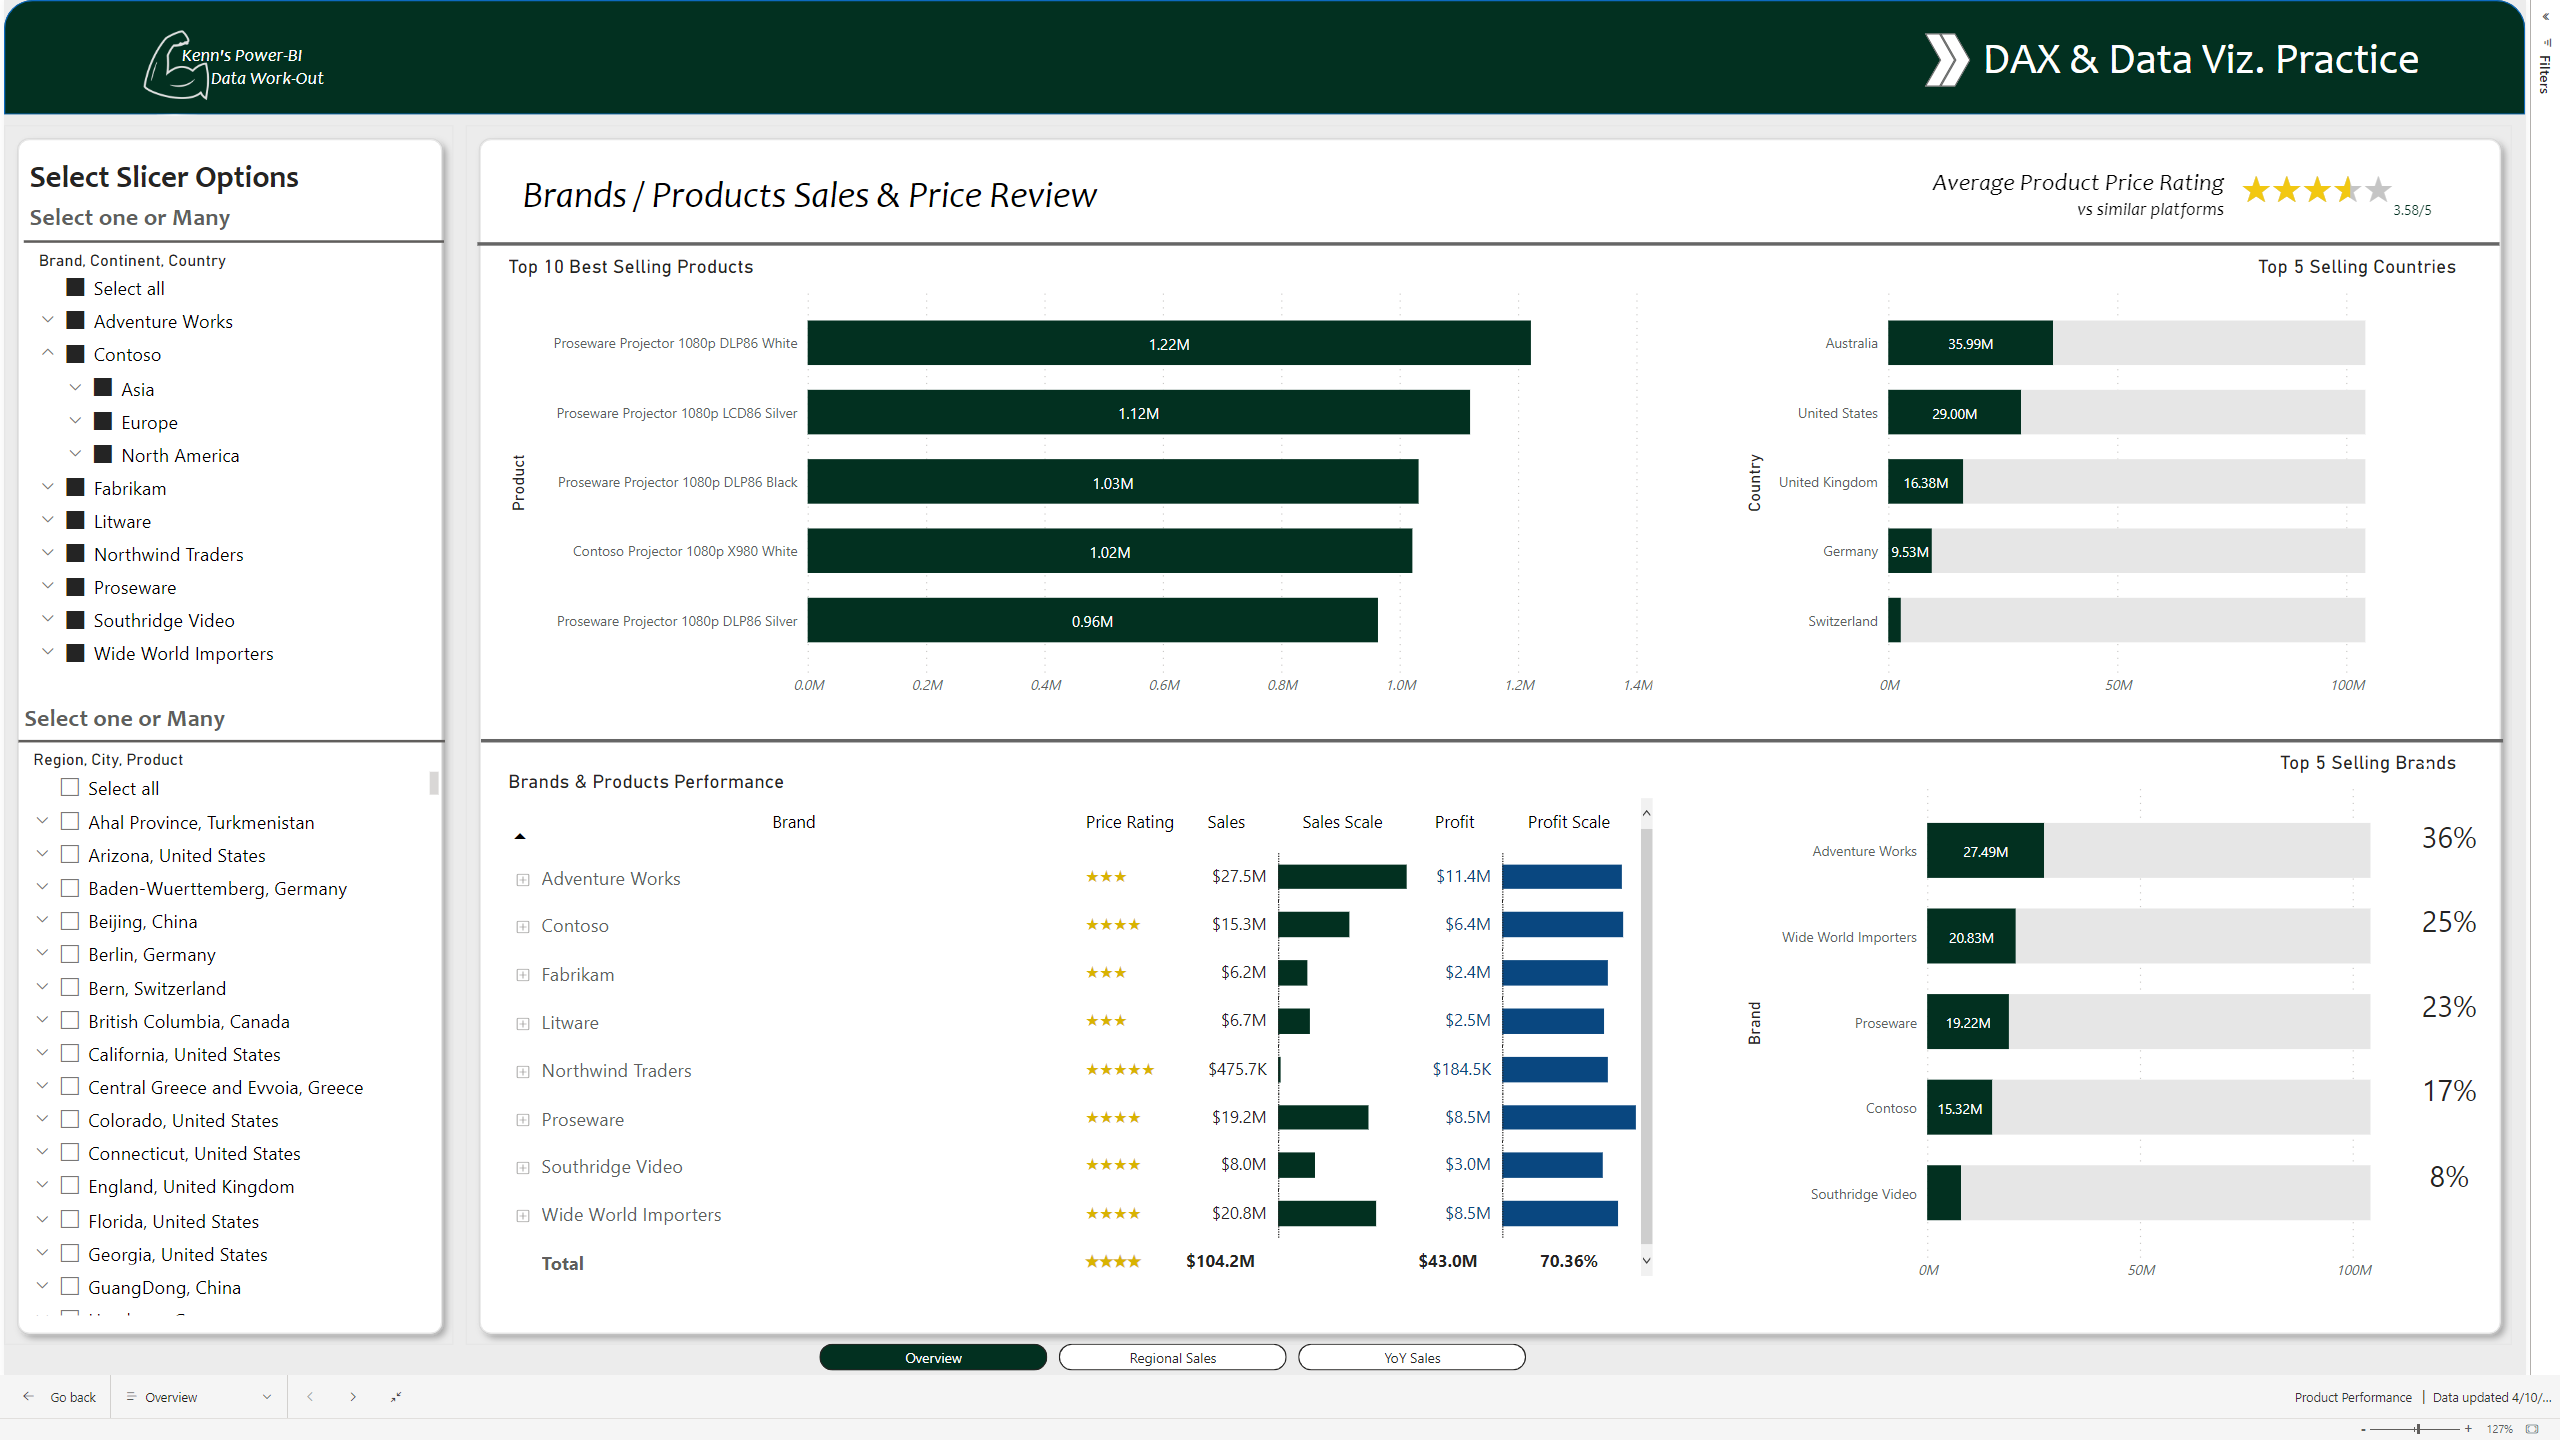

The dashboard page shown, as its layout file describes it:
{"tool":"powerbi","page":{"name":"Overview","canvas":[2200,1200],"ordinal":0},"visuals":[{"type":"lollipopcolumn216FD8C19B9DC0D953B3FAE4C3997742","title":"Monthly Profit","fields":{"col_3":["Key Measures.Cost CY ($)","Key Measures.Sales CY ($)"],"col_1":["KPI Measures.Profit CY ($)"],"col_0":["Date.Full Date.Variation.Date Hierarchy.Month"]},"box":[14.6,782.8,665.8,357.7],"z":0},{"type":"powerKPI462CE5C2666F4EC8A8BDD7E5587320A3","title":"Comparing Budget, Total Sales and Total Cost of Operations","fields":{"Axis":["Date.Date.Variation.Date Hierarchy.Month"],"Values":["Key Measures.Sales CY ($)","Key Measures.Cost CY ($)","Key Measures.Budget ($)"],"KPIIndicatorValue":["KPI Measures.Profit %"],"KPI":["KPI Measures.KPI Index"],"SecondKPIIndicatorValue":["Key Measures.Sales YoY %"]},"box":[1459.9,782.8,717.6,357.7],"z":1000},{"type":"lollipopcolumn216FD8C19B9DC0D953B3FAE4C3997742","title":"Monthly Business Performance (Profit %)","fields":{"col_3":["Key Measures.Cost CY ($)","Key Measures.Sales CY ($)"],"col_0":["Date.Full Date.Variation.Date Hierarchy.Month"],"col_1":["KPI Measures.Profit (%)"]},"box":[727.7,782.8,665.8,357.7],"z":2000},{"type":"advanceCardE03760C5AB684758B56AA29F9E6C257B","fields":{"mainMeasure":["Key Measures.Budget ($)"]},"box":[14.9,133.8,205.8,131.6],"z":3000},{"type":"advanceCardE03760C5AB684758B56AA29F9E6C257B","fields":{"mainMeasure":["Key Measures.Sales CY ($)"]},"box":[574,133.8,205.8,131.6],"z":4000},{"type":"advanceCardE03760C5AB684758B56AA29F9E6C257B","fields":{"mainMeasure":["Key Measures.Cost CY ($)"]},"box":[294.5,133.8,205.8,131.6],"z":5000},{"type":"advanceCardE03760C5AB684758B56AA29F9E6C257B","fields":{"mainMeasure":["KPI Measures.Profit CY ($)"]},"box":[853.5,133.8,205.8,131.6],"z":6000},{"type":"advanceCardE03760C5AB684758B56AA29F9E6C257B","fields":{"mainMeasure":["KPI Measures.Profit (%)"]},"box":[1133.1,133.8,205.8,131.6],"z":7000},{"type":"advanceCardE03760C5AB684758B56AA29F9E6C257B","fields":{"mainMeasure":["Key Measures.Products Sold"]},"box":[1412.6,133.8,205.8,131.6],"z":8000},{"type":"advanceCardE03760C5AB684758B56AA29F9E6C257B","fields":{"mainMeasure":["Key Measures.Transactions"]},"box":[1692.1,133.8,205.8,131.6],"z":9000},{"type":"advanceCardE03760C5AB684758B56AA29F9E6C257B","fields":{"mainMeasure":["Key Measures.Countries"]},"box":[1971.7,133.8,205.8,131.6],"z":10000},{"type":"slicer","fields":{"Values":["Product Table.Product"]},"box":[1562.3,14.6,568,84.4],"z":11000},{"type":"slicer","fields":{"Values":["Sales.City"]},"box":[1110.5,14.6,398.8,84.9],"z":12000},{"type":"slicer","fields":{"Values":["Sales.Continent"]},"box":[775.1,14.6,282.3,84.4],"z":13000},{"type":"clusteredBarChart","title":"Top 5 Selling Countries","fields":{"Category":["Sales.Country"],"Y":["Key Measures.Sales CY ($)"]},"box":[1691.6,300.2,485.9,431.9],"z":14000},{"type":"clusteredBarChart","title":"Top 5 Selling Brands","fields":{"Category":["Sales.Brand"],"Y":["Key Measures.Sales CY ($)"]},"box":[1113.5,300.3,518.5,431.9],"z":15000},{"type":"clusteredBarChart","title":"Top 10 Selling Products","fields":{"Category":["Sales.Product"],"Y":["Key Measures.Sales CY ($)"]},"box":[14.6,300.2,1044.9,431.9],"z":16000},{"type":"slicer","fields":{"Values":["Date.Date.Variation.Date Hierarchy.Month"]},"box":[439.8,14.6,282.3,84.4],"z":16001},{"type":"pageNavigator","box":[722.1,1147.2,599.5,49.5],"z":16002}]}

Visuals, with their boxes on the page's 2200x1200 design canvas (x1, y1, x2, y2). These are canvas units, not pixel positions in the 2560x1440 screenshot, which may show the page scaled, cropped or inside an application window:
"Monthly Profit" lollipopcolumn216FD8C19B9DC0D953B3FAE4C3997742: BBox(15, 783, 680, 1140)
"Comparing Budget, Total Sales and Total Cost of Operations" powerKPI462CE5C2666F4EC8A8BDD7E5587320A3: BBox(1460, 783, 2178, 1140)
"Monthly Business Performance (Profit %)" lollipopcolumn216FD8C19B9DC0D953B3FAE4C3997742: BBox(728, 783, 1394, 1140)
advanceCardE03760C5AB684758B56AA29F9E6C257B - Key Measures.Budget ($): BBox(15, 134, 221, 265)
advanceCardE03760C5AB684758B56AA29F9E6C257B - Key Measures.Sales CY ($): BBox(574, 134, 780, 265)
advanceCardE03760C5AB684758B56AA29F9E6C257B - Key Measures.Cost CY ($): BBox(294, 134, 500, 265)
advanceCardE03760C5AB684758B56AA29F9E6C257B - KPI Measures.Profit CY ($): BBox(854, 134, 1059, 265)
advanceCardE03760C5AB684758B56AA29F9E6C257B - KPI Measures.Profit (%): BBox(1133, 134, 1339, 265)
advanceCardE03760C5AB684758B56AA29F9E6C257B - Key Measures.Products Sold: BBox(1413, 134, 1618, 265)
advanceCardE03760C5AB684758B56AA29F9E6C257B - Key Measures.Transactions: BBox(1692, 134, 1898, 265)
advanceCardE03760C5AB684758B56AA29F9E6C257B - Key Measures.Countries: BBox(1972, 134, 2178, 265)
slicer - Product Table.Product: BBox(1562, 15, 2130, 99)
slicer - Sales.City: BBox(1110, 15, 1509, 100)
slicer - Sales.Continent: BBox(775, 15, 1057, 99)
"Top 5 Selling Countries" clusteredBarChart: BBox(1692, 300, 2178, 732)
"Top 5 Selling Brands" clusteredBarChart: BBox(1114, 300, 1632, 732)
"Top 10 Selling Products" clusteredBarChart: BBox(15, 300, 1060, 732)
slicer - Date.Date.Variation.Date Hierarchy.Month: BBox(440, 15, 722, 99)
pageNavigator: BBox(722, 1147, 1322, 1197)
